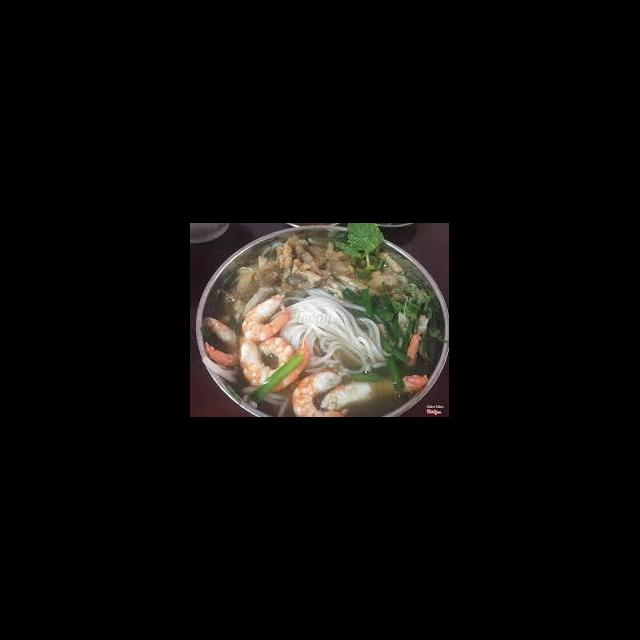bun: (264, 284, 396, 378)
tom: (318, 370, 432, 414), (238, 337, 314, 395), (288, 365, 356, 417), (238, 290, 294, 345), (200, 312, 248, 371), (252, 334, 298, 378), (402, 311, 430, 371)
